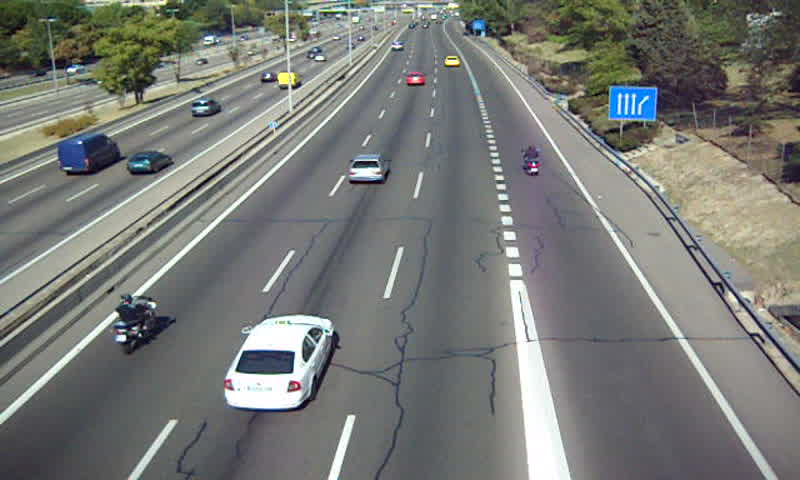car: (221, 315, 334, 410), (347, 154, 392, 182), (406, 71, 424, 89), (444, 56, 462, 67)
motorcycle: (113, 292, 155, 354), (523, 144, 542, 177)
